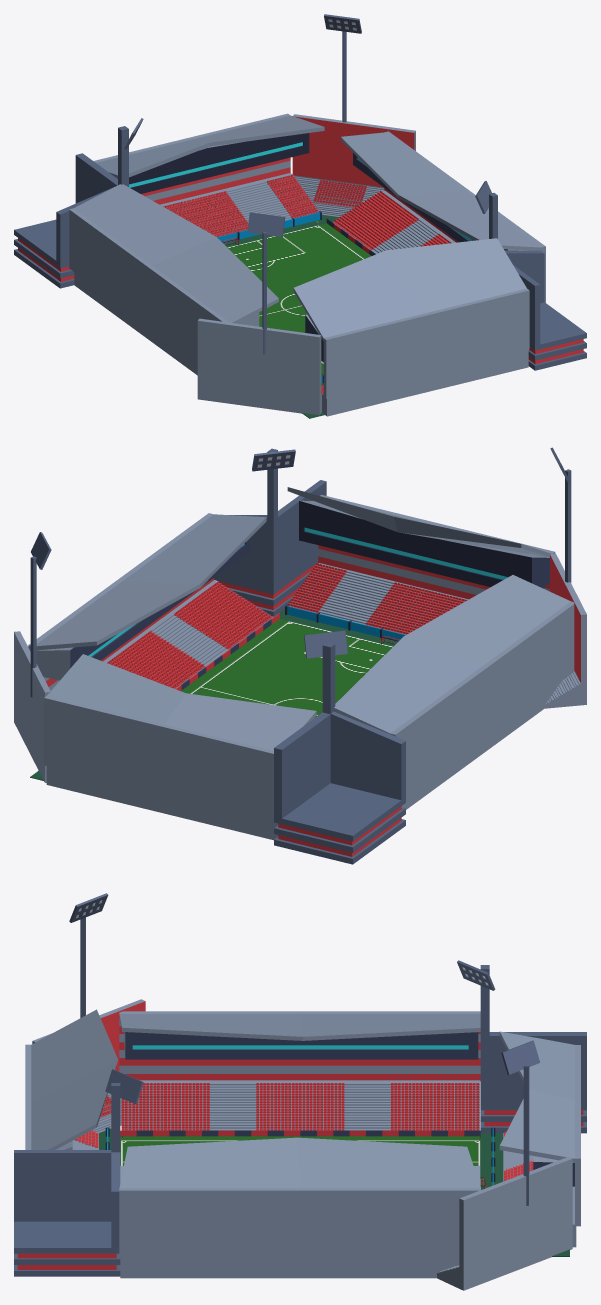
File: stadium1.glb
The picture shows the model from 3 angles, top to bottom: view 1: azimuth 30°, elevation 25°; view 2: azimuth 150°, elevation 25°; view 3: azimuth 270°, elevation 25°; orthographic projection. The views are drawn at different scales.
Parts seen in each view (by area): view 1: High End, Cube.029, Corner Seats Red.001, Cube.030, Cube, Low End, Corner Seats, Cube.037, Cube.020, Cube.038, Cube.011, Cube.015 (+11 smaller); view 2: Cube.029, Low End, Cube.037, Cube.030, Cube, Cube.035, Cube.020, High End, Cube.015, Cube.011, Cube.008, Corner Seats (+13 smaller); view 3: Cube.030, Cube.029, Cube.020, Corner Seats, Cube.002, High End, Cube.039, Low End, Cube.005, Cube.037, Cube, Cube.001 (+11 smaller).
Part boxes in pixels (x1,y1,x2,y2): High End: (293, 238, 529, 398); Cube.029: (69, 184, 278, 361); Corner Seats Red.001: (197, 318, 321, 415); Cube.030: (341, 131, 545, 302); Cube: (223, 215, 371, 418); Low End: (93, 113, 324, 204); Corner Seats: (292, 114, 415, 217); Cube.037: (14, 126, 128, 288); Cube.020: (489, 193, 586, 370); Cube.038: (129, 133, 309, 193); Cube.011: (321, 349, 528, 416); Cube.015: (160, 173, 318, 236); Cube.029: (334, 575, 574, 794); Low End: (44, 654, 316, 821); Cube.037: (274, 642, 405, 864); Cube.030: (28, 513, 266, 690); Cube: (30, 609, 397, 780); Cube.035: (299, 500, 549, 588); Cube.020: (214, 448, 326, 616); High End: (287, 487, 555, 599); Cube.015: (46, 766, 278, 840); Cube.011: (290, 563, 468, 634); Cube.008: (174, 581, 272, 649); Corner Seats: (14, 631, 50, 782); Cube.030: (119, 1137, 480, 1258); Cube.029: (119, 1011, 480, 1081); Cube.020: (14, 1083, 120, 1276); Corner Seats: (437, 1156, 572, 1290); Cube.002: (124, 1080, 480, 1130); High End: (25, 1009, 117, 1149); Cube.039: (124, 1032, 478, 1059); Low End: (499, 1031, 580, 1226); Cube.005: (120, 1258, 459, 1278); Cube.037: (480, 965, 586, 1133); Cube: (99, 1128, 569, 1256); Cube.001: (256, 1083, 344, 1130).
Size of the model in its own units: 15871 by 7994 by 19105.
2 materials, 2 textured.
